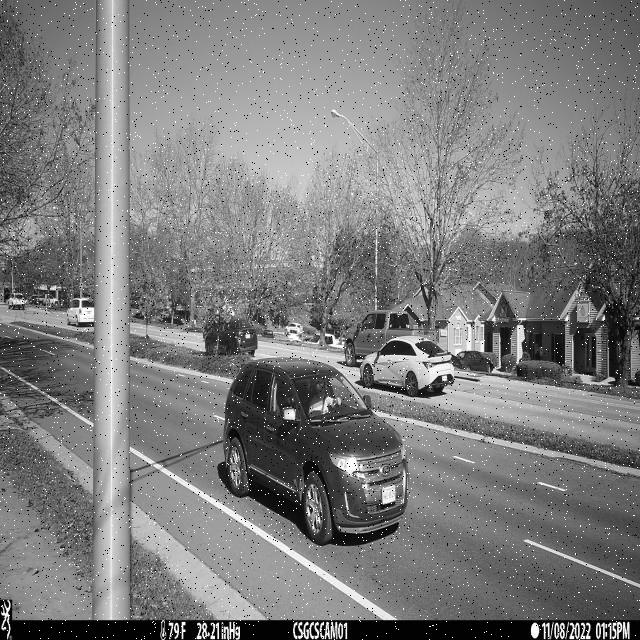SUV: (224, 355, 413, 547)
